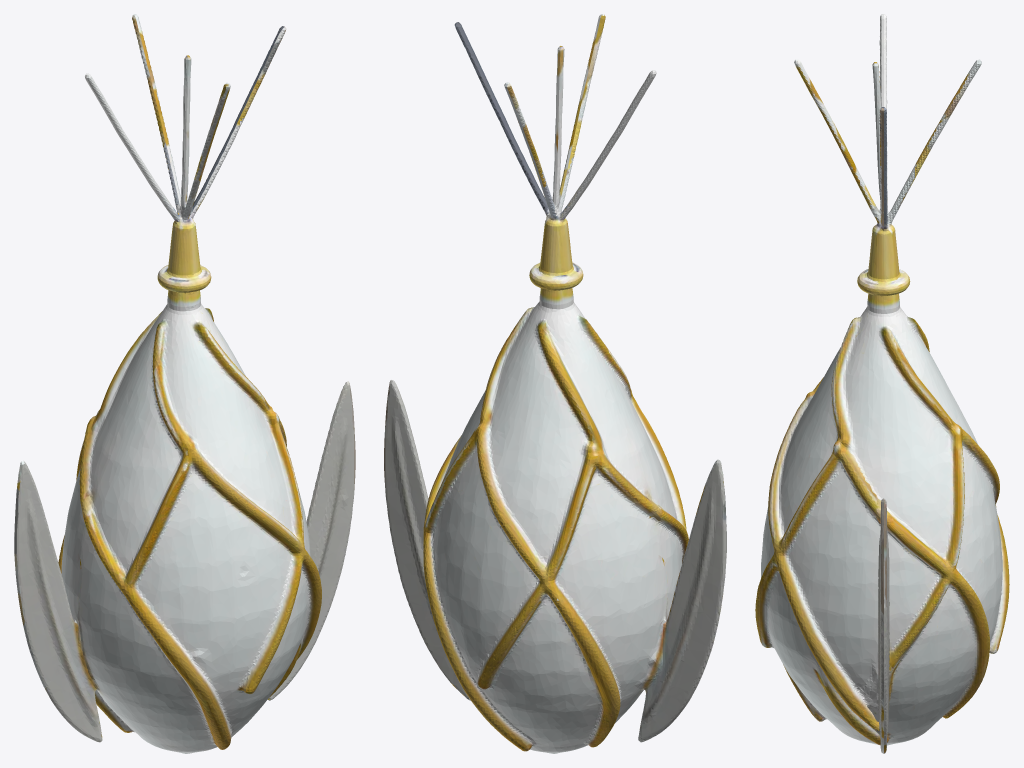
Rendered from creature-016.glb.
The picture shows the model from 3 angles, left to right: view 1: azimuth 30°, elevation 25°; view 2: azimuth 150°, elevation 25°; view 3: azimuth 270°, elevation 25°; orthographic projection. The views are drawn at different scales.
Visible parts, largest first — view 1: tmplf7rm92g.ply; view 2: tmplf7rm92g.ply; view 3: tmplf7rm92g.ply.
Part boxes in pixels (x1,y1,x2,y2): tmplf7rm92g.ply: (14, 14, 355, 753); tmplf7rm92g.ply: (384, 14, 726, 753); tmplf7rm92g.ply: (755, 14, 1009, 753).
Size of the model in its own units: 1.01 by 1.99 by 0.6703.
Materials: 1 (1 with a texture image).
